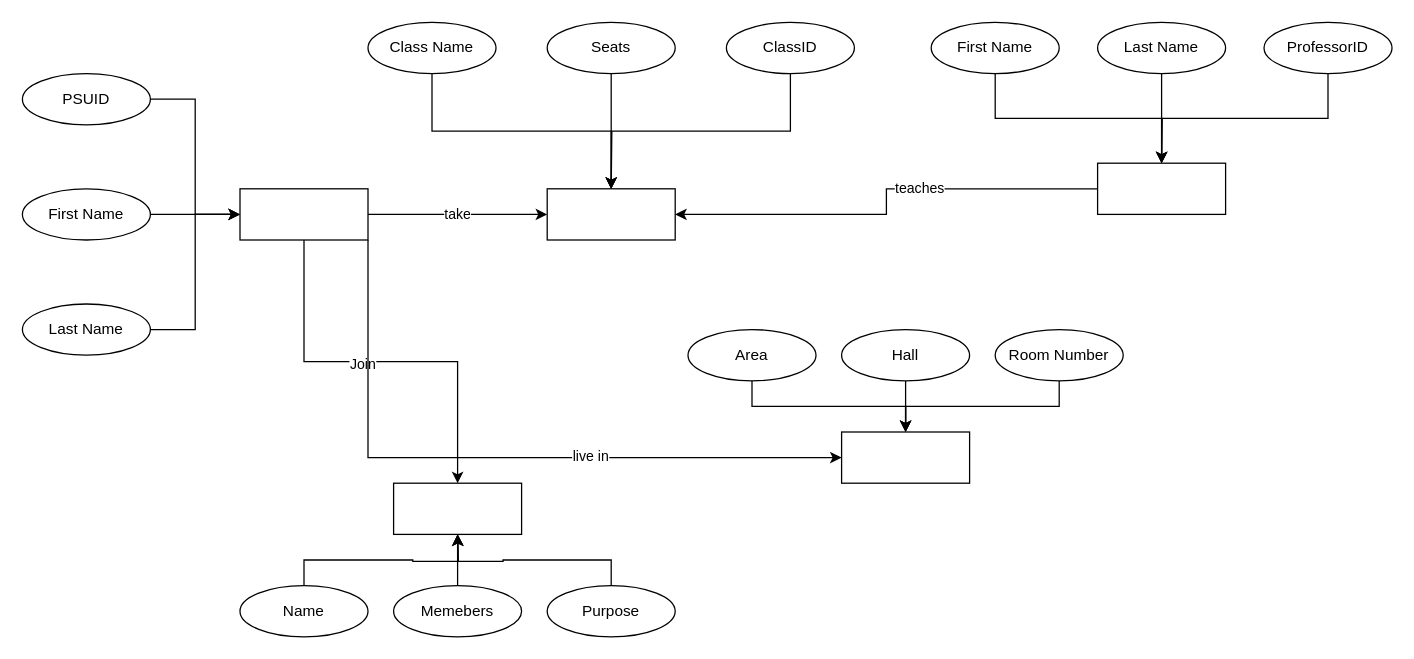
The diagram is 1414 pixels wide and 659 high, and some of its shapes have lost their labels. The shapes that lost their labels are listed below. From the top down, each one's centre as x and y in pixels, then its label:
At pixel 1161 188: "Professor".
At pixel 303 214: "Students".
At pixel 610 214: "Classes".
At pixel 905 457: "Dorms".
At pixel 457 508: "Clubs".
